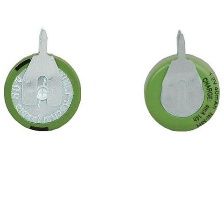battery: (1, 26, 84, 133), (141, 27, 222, 134)
